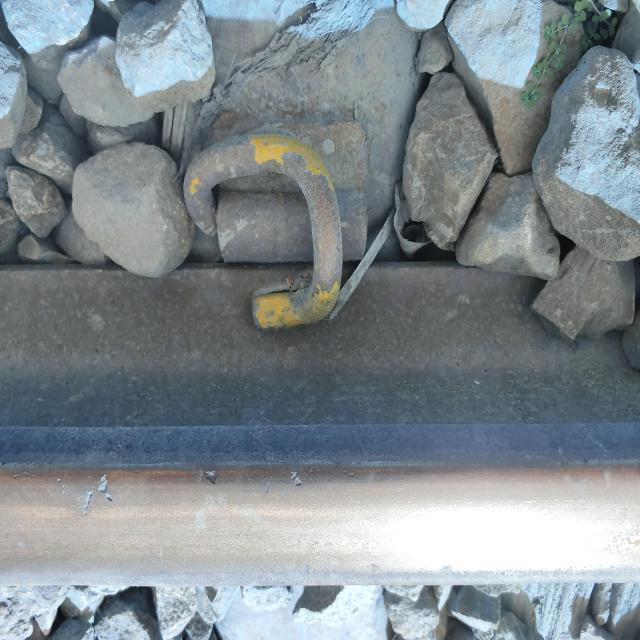Good Fasteners: (191, 106, 374, 337)
